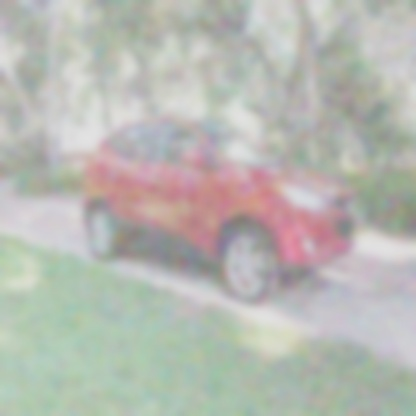Vehicle: (82, 119, 360, 306)
